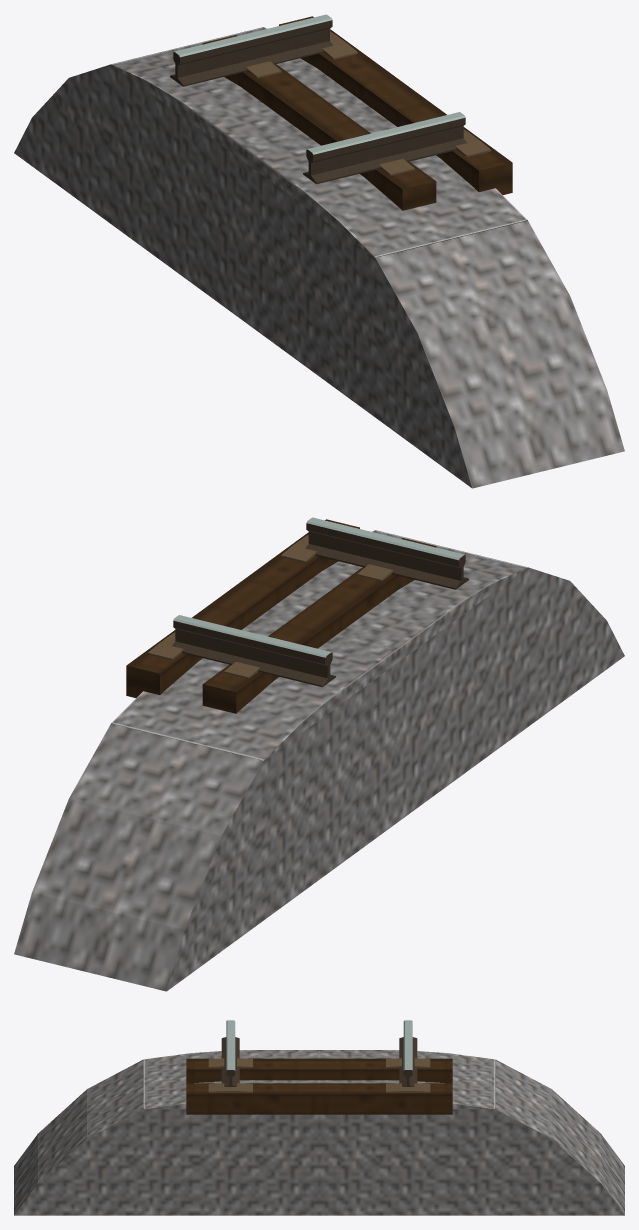
File: spsf_track_wood_ballast_large.obj
3 views of the same model, one above another, from view 1: azimuth 30°, elevation 25°; view 2: azimuth 150°, elevation 25°; view 3: azimuth 270°, elevation 25° (orthographic). The views are drawn at different scales.
Parts seen in each view (by area): view 1: RAIL_BASE.003, RAIL_BASE.002, RAIL_BASE, RAIL_RIGHT, RAIL_LEFT, RAIL_BASE.001; view 2: RAIL_BASE.003, RAIL_BASE.002, RAIL_BASE, RAIL_LEFT, RAIL_RIGHT, RAIL_BASE.001; view 3: RAIL_BASE.003, RAIL_BASE, RAIL_BASE.002, RAIL_BASE.001, RAIL_LEFT, RAIL_RIGHT.
Part boxes in pixels (box(x1,y1,x2,y2)): RAIL_BASE.003: box(14, 27, 624, 488); RAIL_BASE.002: box(111, 27, 526, 257); RAIL_BASE: box(202, 16, 512, 210); RAIL_RIGHT: box(170, 14, 333, 86); RAIL_LEFT: box(303, 112, 466, 184); RAIL_BASE.001: box(245, 31, 491, 175); RAIL_BASE.003: box(14, 530, 624, 991); RAIL_BASE.002: box(112, 530, 527, 760); RAIL_BASE: box(126, 519, 436, 713); RAIL_LEFT: box(305, 517, 468, 589); RAIL_RIGHT: box(172, 615, 335, 687); RAIL_BASE.001: box(147, 534, 393, 678); RAIL_BASE.003: box(14, 1060, 624, 1215); RAIL_BASE: box(186, 1058, 452, 1114); RAIL_BASE.002: box(143, 1050, 495, 1109); RAIL_BASE.001: box(208, 1058, 430, 1092); RAIL_LEFT: box(221, 1020, 239, 1086); RAIL_RIGHT: box(399, 1020, 417, 1086).
Size of the model in its own units: 1.11 by 1.37 by 5.2.
1 material, 1 textured.
